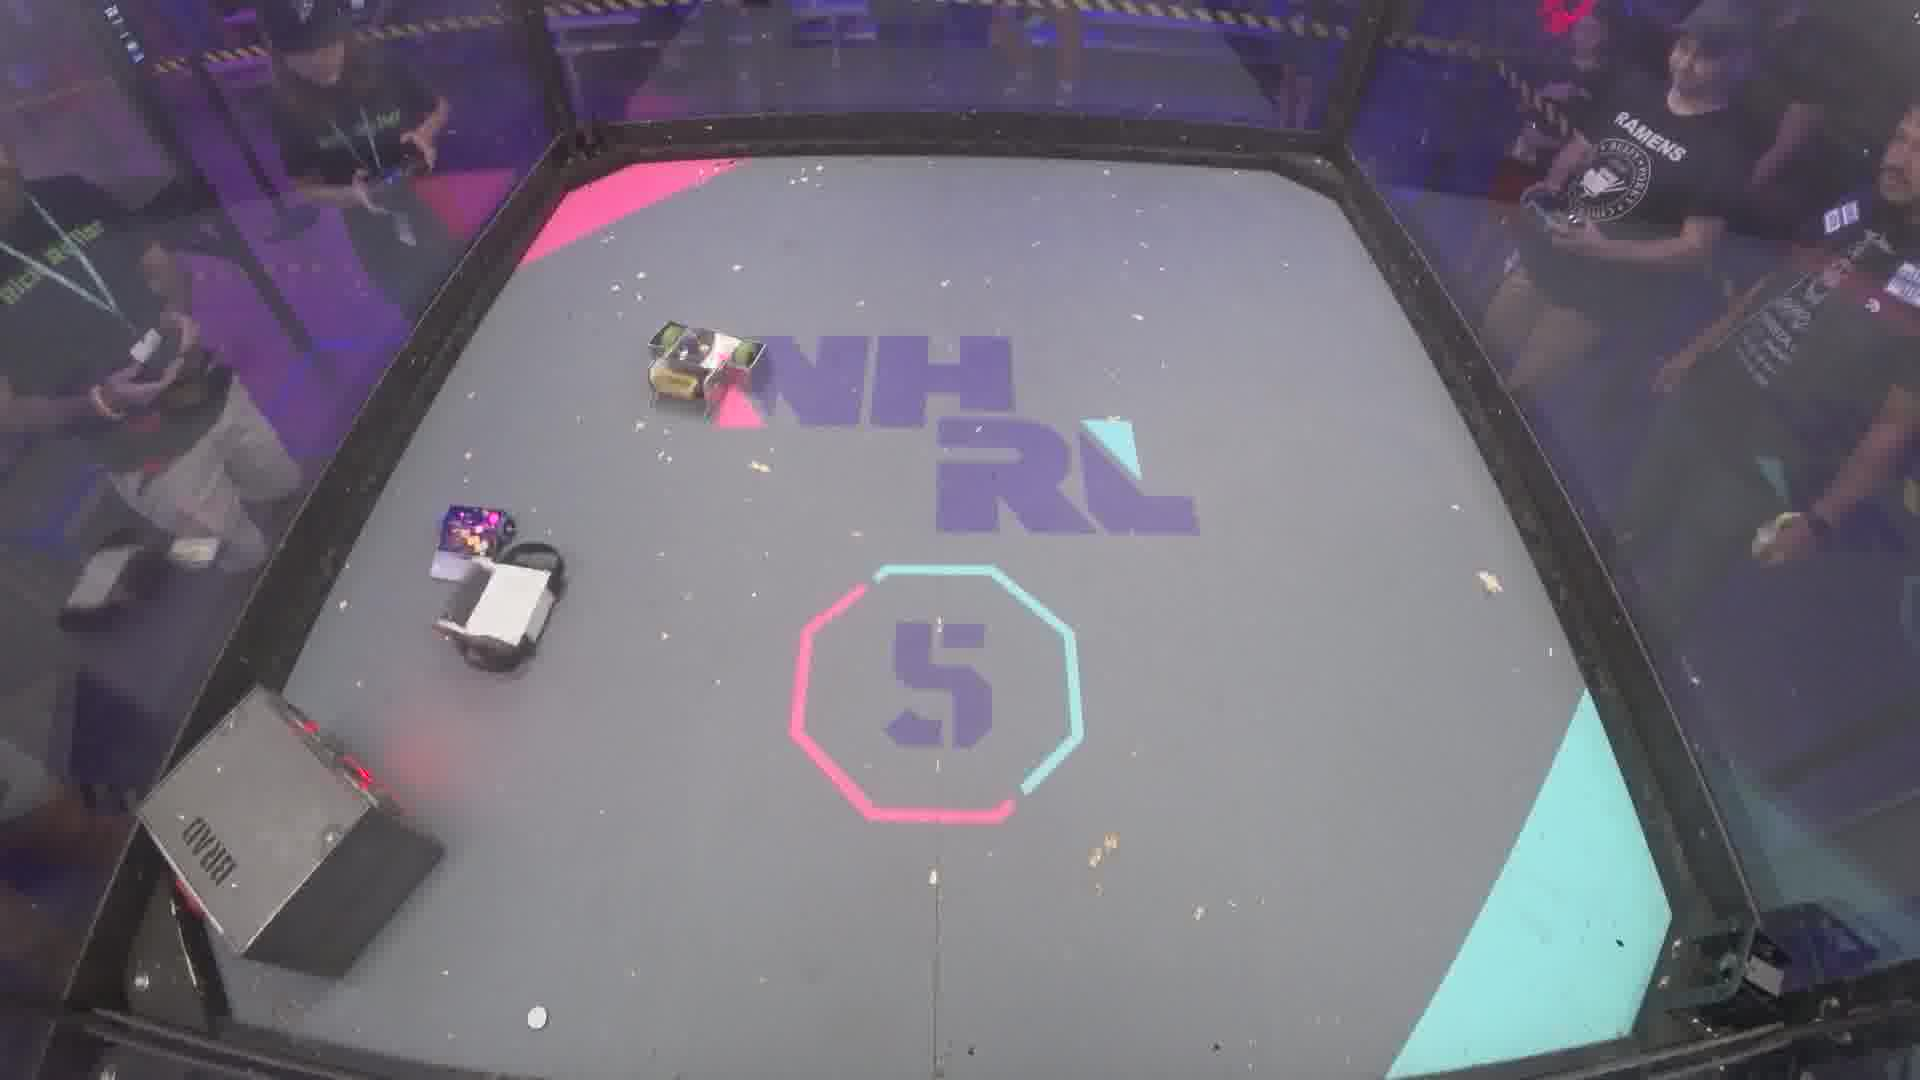combatbot: (429, 541, 570, 671), (641, 320, 767, 415)
housebot: (137, 682, 450, 981)
minibot: (434, 505, 516, 580)
